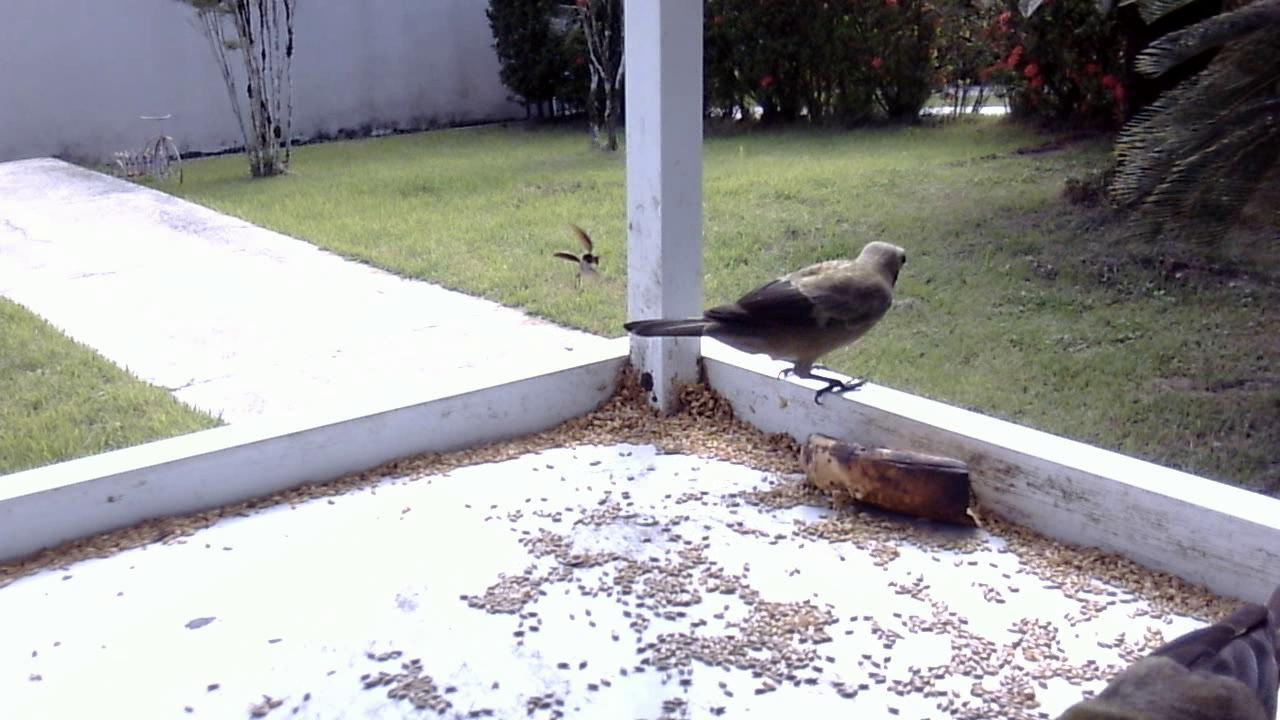sanhaco_do_coqueiro: (624, 234, 917, 409), (1035, 578, 1276, 720)
